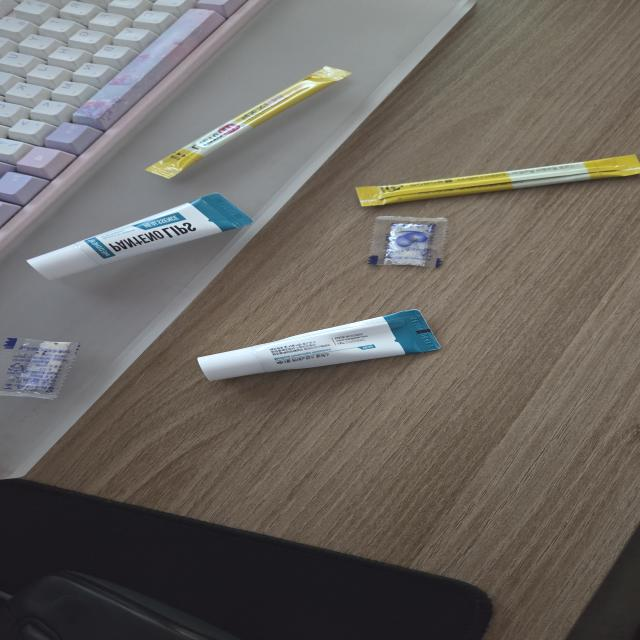lacto: (129, 64, 352, 180), (355, 153, 639, 207)
lib: (26, 193, 254, 280), (186, 310, 445, 383)
salt: (1, 337, 82, 400), (365, 217, 450, 271)
